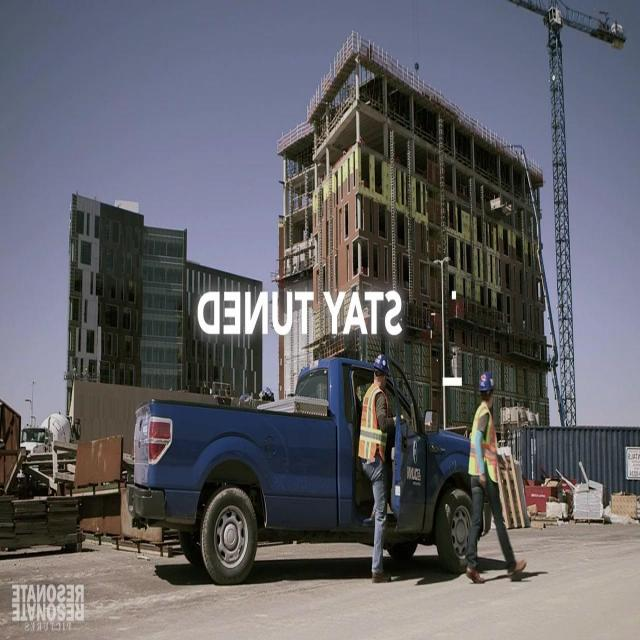Reflective-Jacket: (354, 384, 398, 474), (466, 401, 502, 490)
Safety-Helmet: (370, 349, 394, 379), (476, 366, 498, 396)
